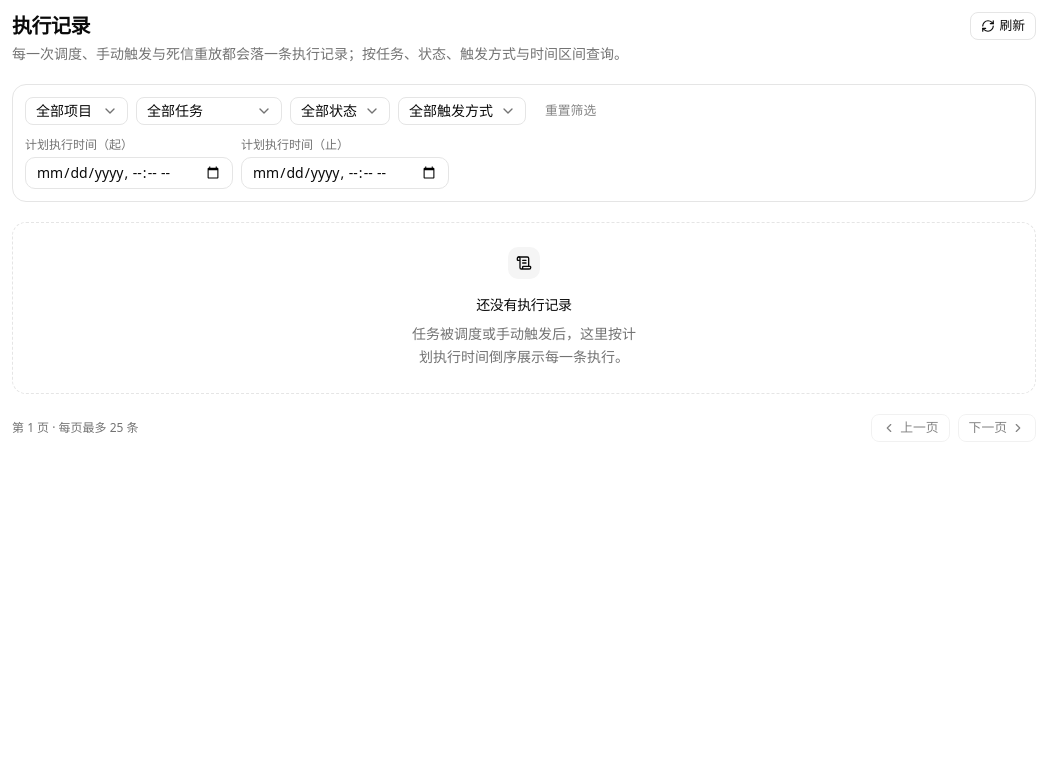
执行记录页 › 时间区间倒置时前端停手，不发必然 400 的请求
The width and height of the screenshot is (1048, 780).
Check: the text "还没有执行记录" is shown, box [476,295,572,315]
Step 1. Type "2026-10-26T12:00" into the field labelled "计划执行时间（起）" → (129, 173), box [25,157,233,189]
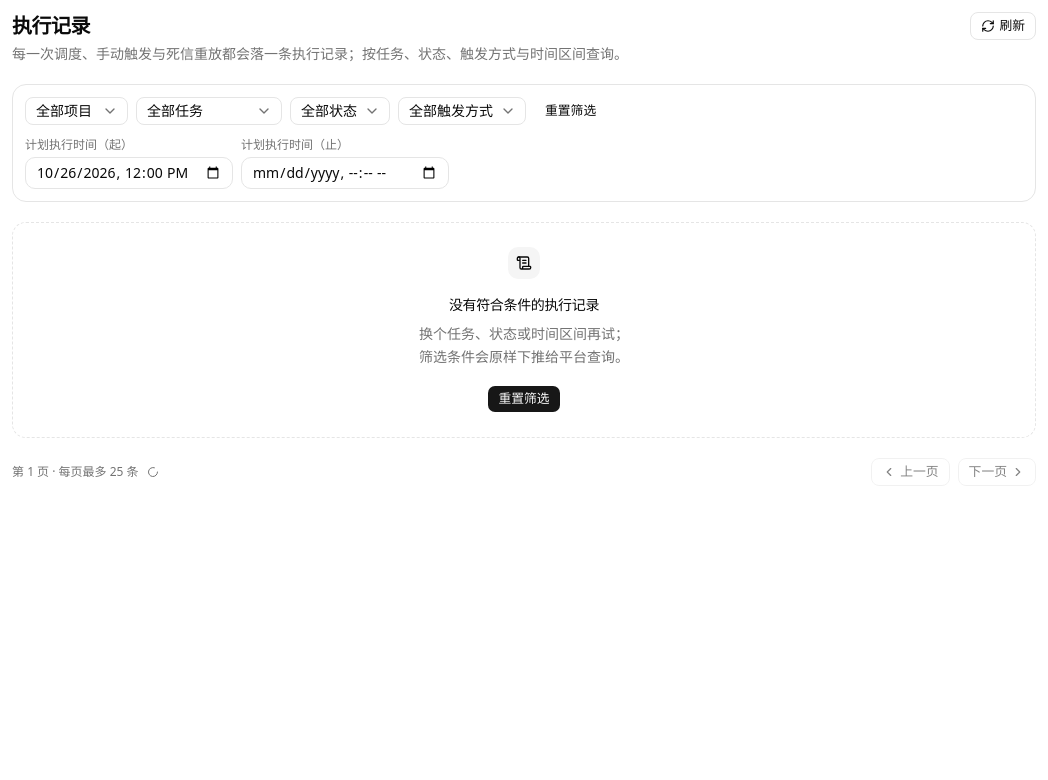
Step 2. Type "2026-10-26T10:00" into the field labelled "计划执行时间（止）" → (345, 173), box [241,157,449,189]
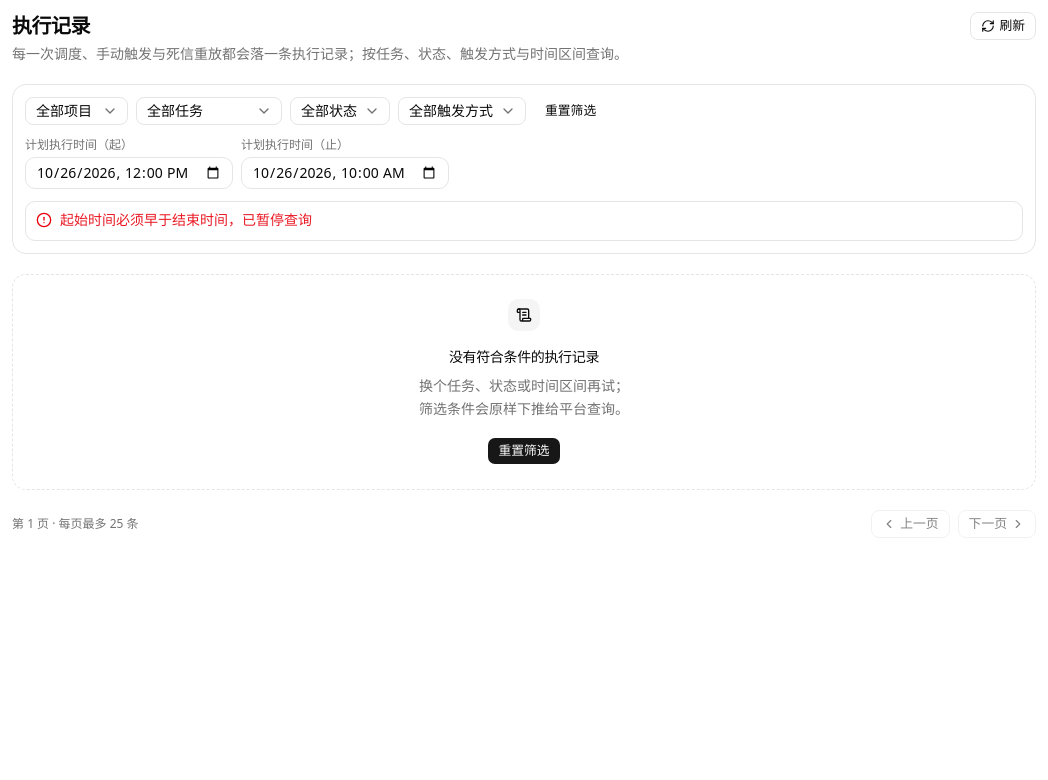
Check: the text "起始时间必须早于结束时间，已暂停查询" is shown, box [60,210,312,229]
